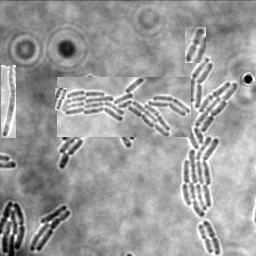Dividing: (1, 65, 16, 138), (185, 27, 206, 63), (204, 219, 222, 255), (199, 223, 215, 253), (55, 88, 67, 110)
Microcolony: (167, 57, 238, 216), (57, 77, 191, 137), (30, 204, 72, 251), (1, 200, 26, 255)
